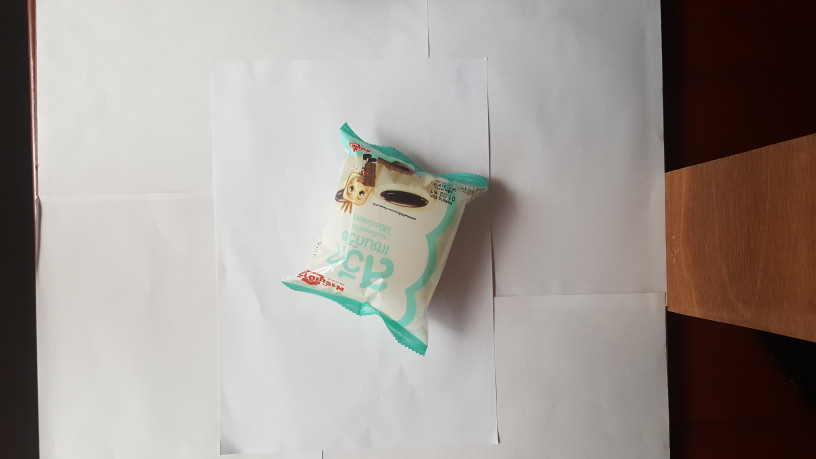farmhouse-sweetsandwich-chocolate: (278, 122, 489, 359)
